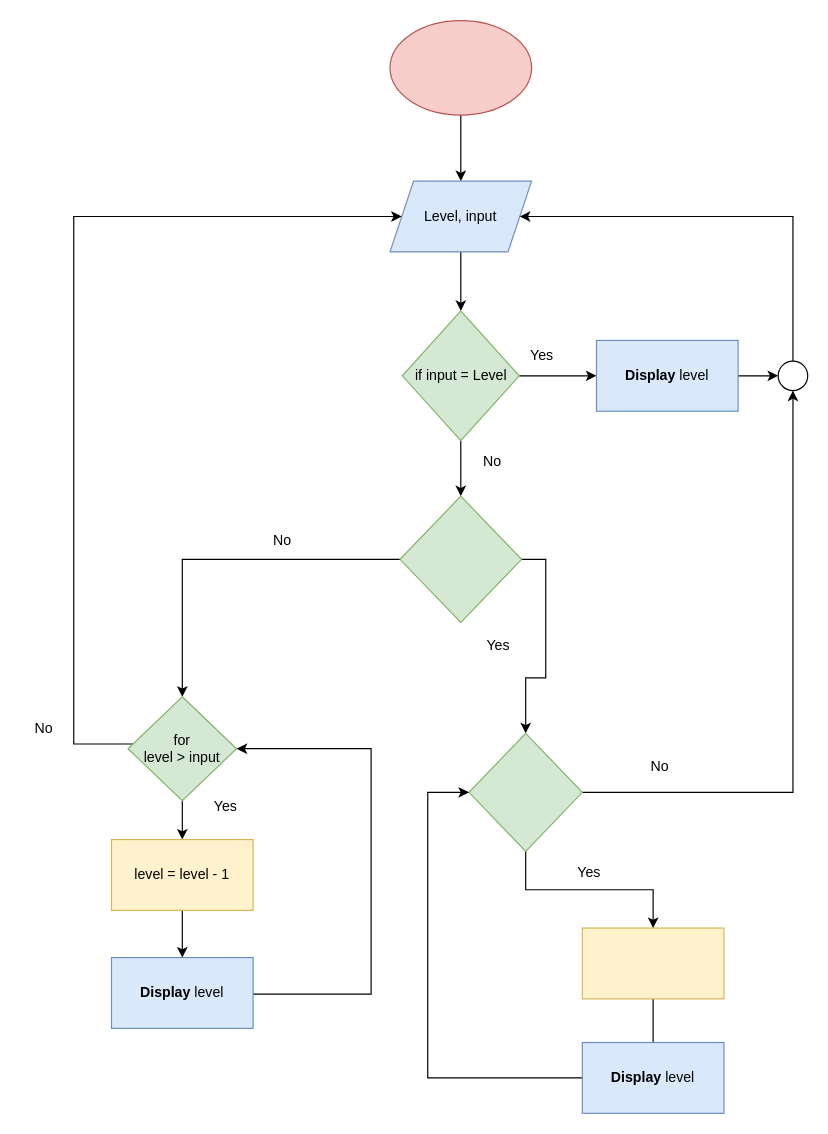
The diagram is 828 pixels wide and 1134 high, and some of its shapes have lost their labels. The shapes that lost their labels are listed below. From the top down, each one's centre as x and y in pixels, then its label:
the point at 460,67: Start
the point at 460,558: if input>level
the point at 525,791: for level < input
the point at 652,963: level = level + 1
